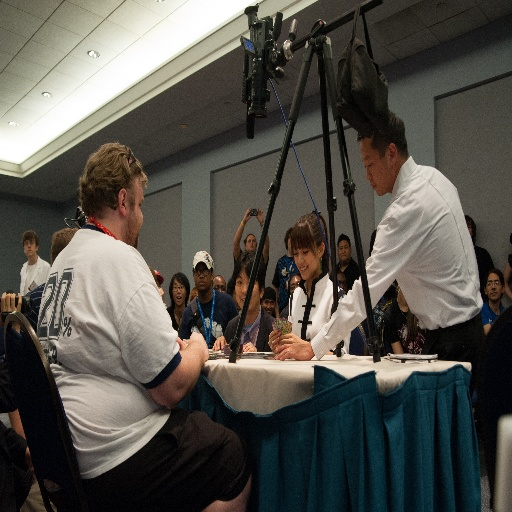hand: (275, 343, 315, 360), (188, 330, 210, 359), (267, 330, 281, 354), (280, 332, 305, 345), (211, 333, 227, 349), (242, 342, 256, 353), (244, 208, 253, 223), (256, 209, 263, 226)
